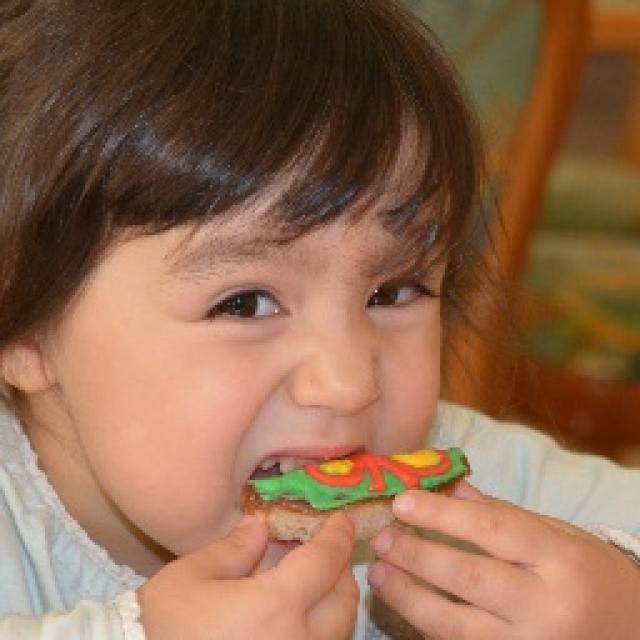earlobe: (1, 359, 55, 398)
eye: (211, 284, 289, 328), (353, 281, 434, 312)
nose: (293, 397, 377, 439)
wholeear: (2, 303, 53, 393)
